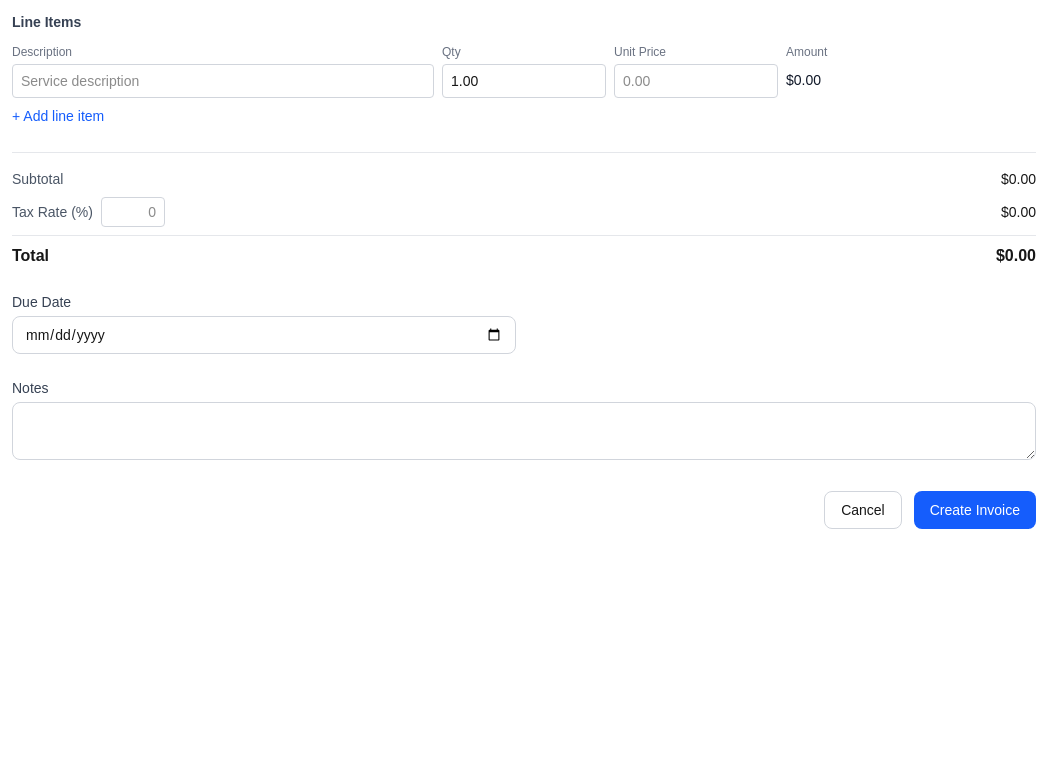
Scenario: InvoiceForm › user interactions › removes a line item when clicking remove
This screenshot has width=1048, height=780.
Note: Add a second line item
Click the button "+ Add line item".
click(58, 116)  # box x1=12 y1=106 x2=104 y2=126
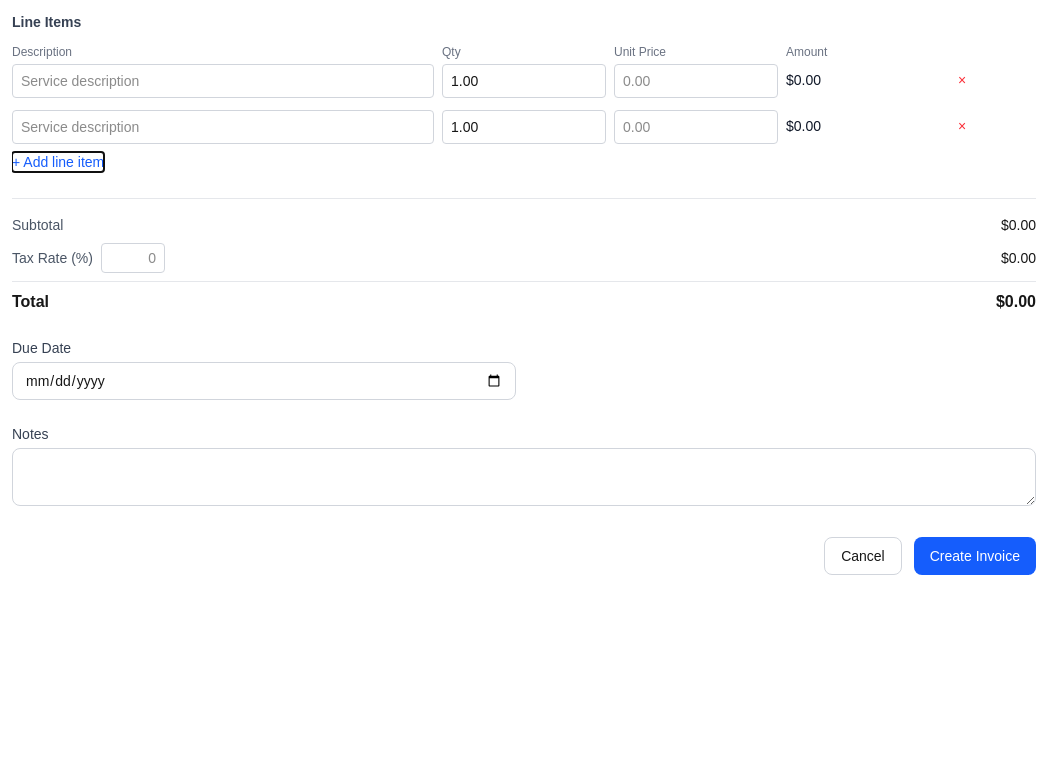
Expected: the number of fields with placeholder "Service description" is 2, x1=12 y1=64 x2=434 y2=98; x1=12 y1=110 x2=434 y2=144
Note: Remove the first line item
Click the button named "remove line item".
click(962, 80)  # box x1=958 y1=64 x2=966 y2=96
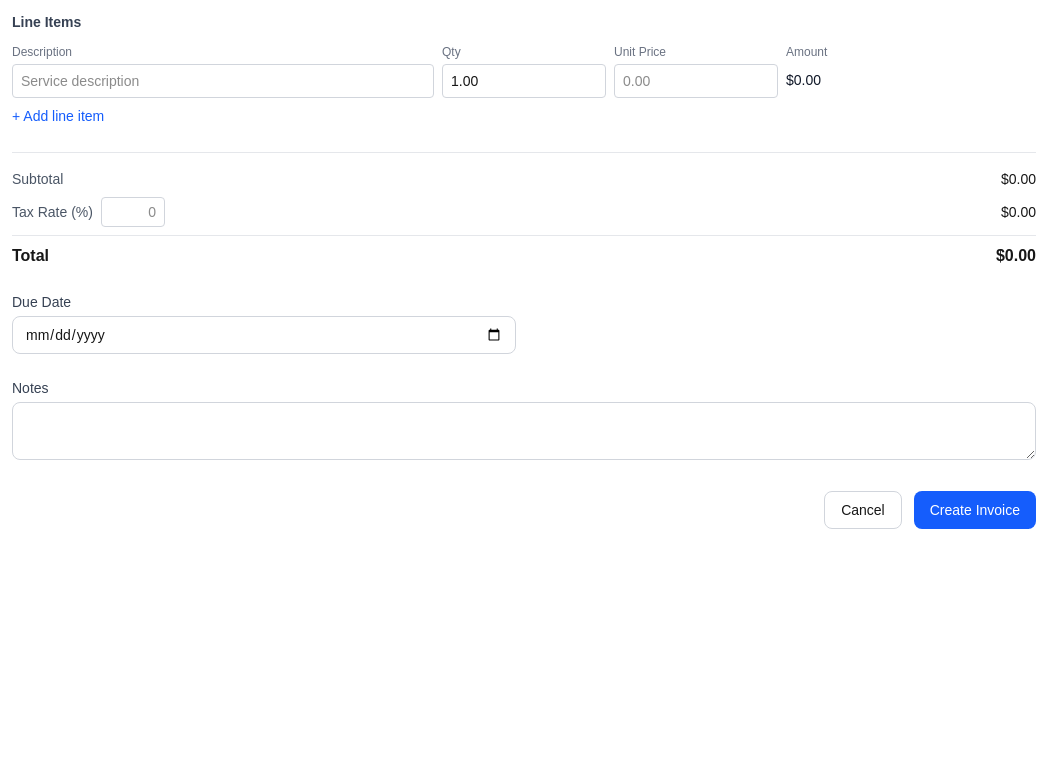
Expected: the number of fields with placeholder "Service description" is 1, x1=12 y1=64 x2=434 y2=98
